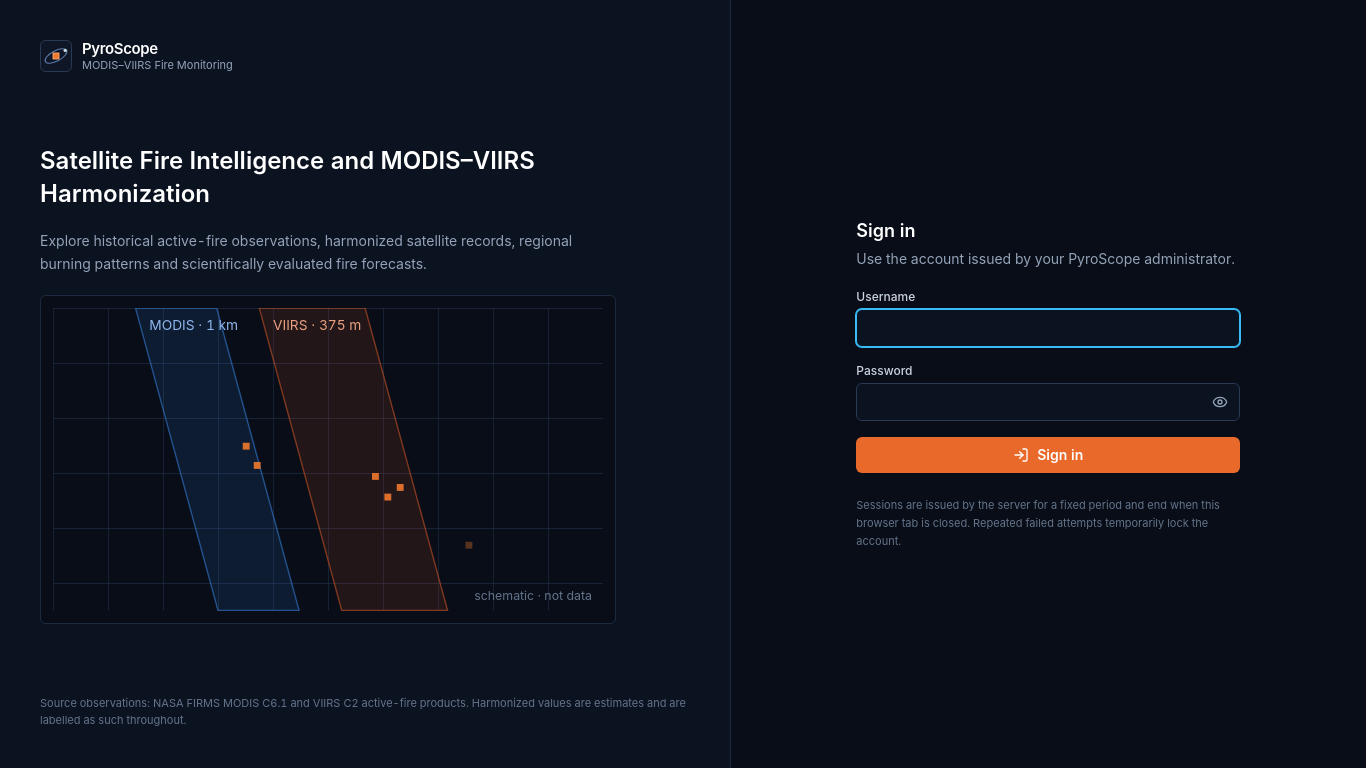
Test case: production mode › validates empty fields client-side without calling the server
Click the button "Sign in" at (1048, 455), box [856,437,1240,473]
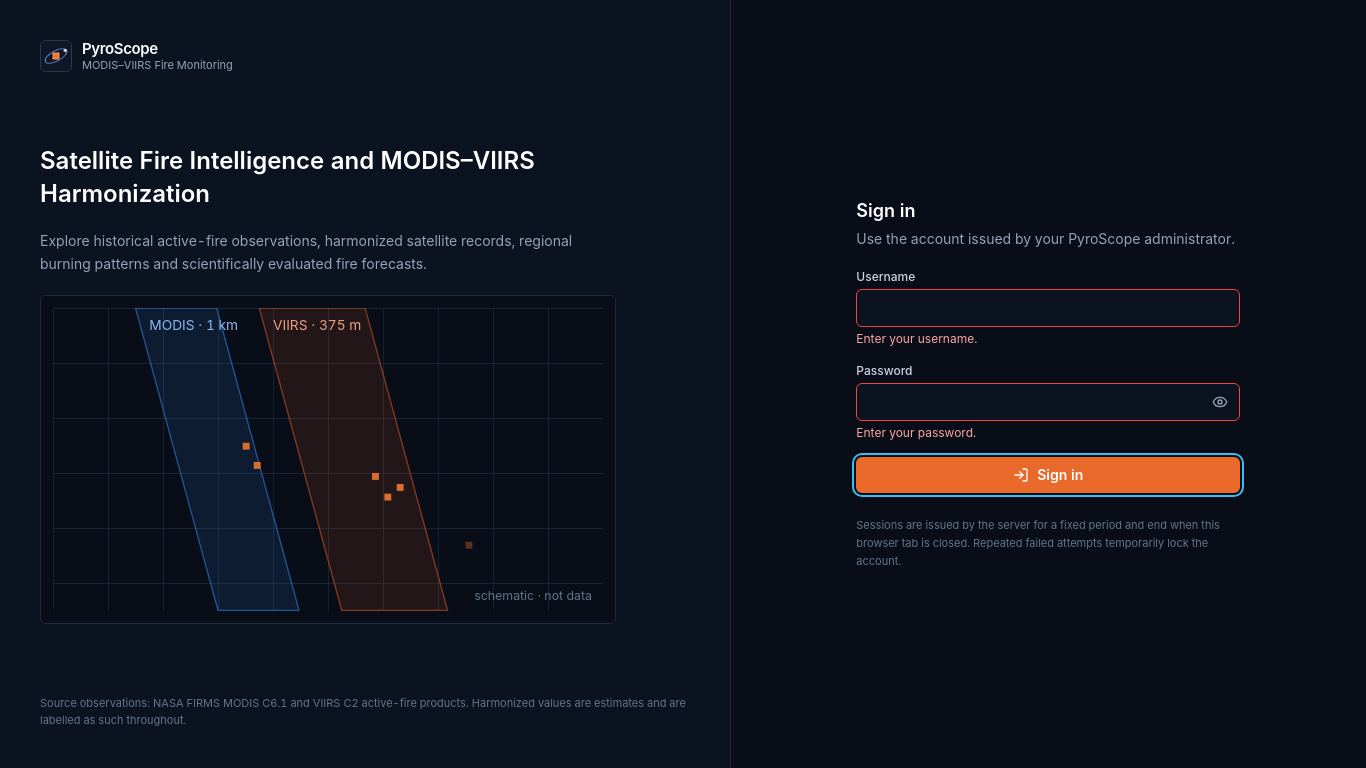
Result: the text "Enter your username." is shown at [856,331,977,346]
Result: the text "Enter your password." is shown at [856,425,976,440]
